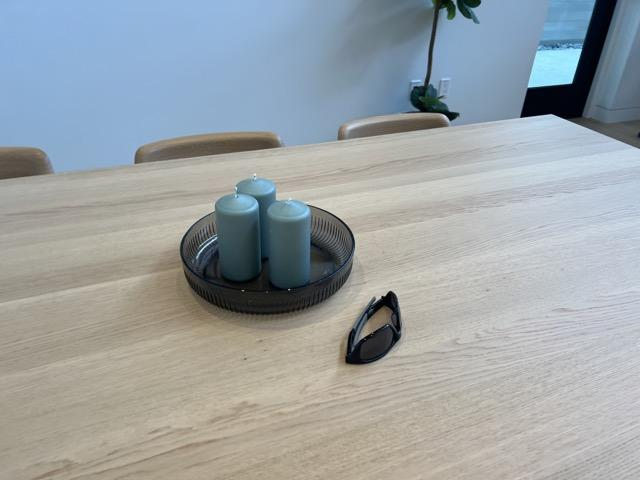Sunglasses: (345, 290, 404, 366)
